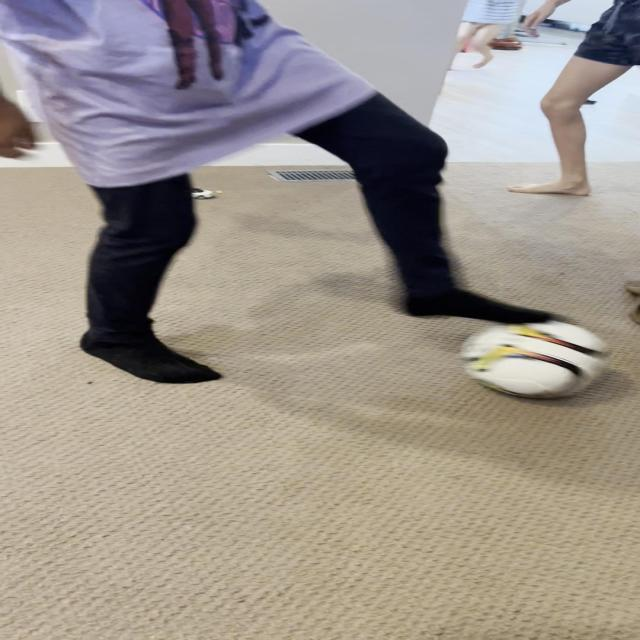Soccer Ball: (462, 318, 615, 401)
